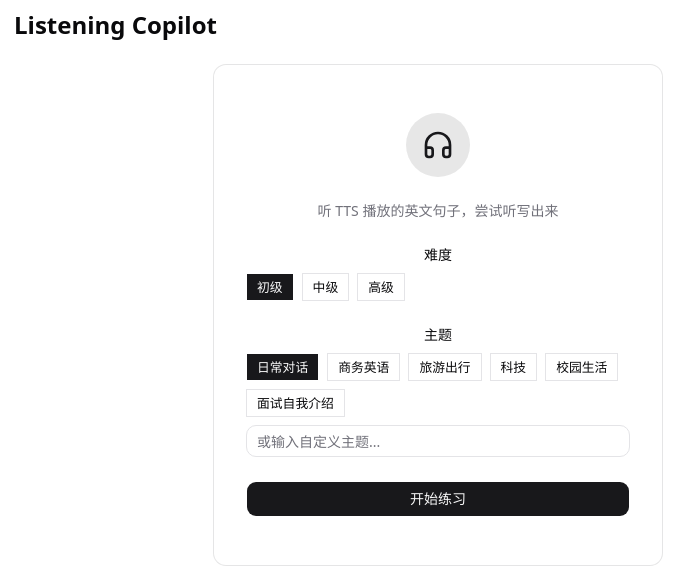
Test case: ListeningPage › shows error when LLM request fails
This screenshot has width=680, height=583.
Click the button "开始练习" at (438,499), box [246,481,630,517]
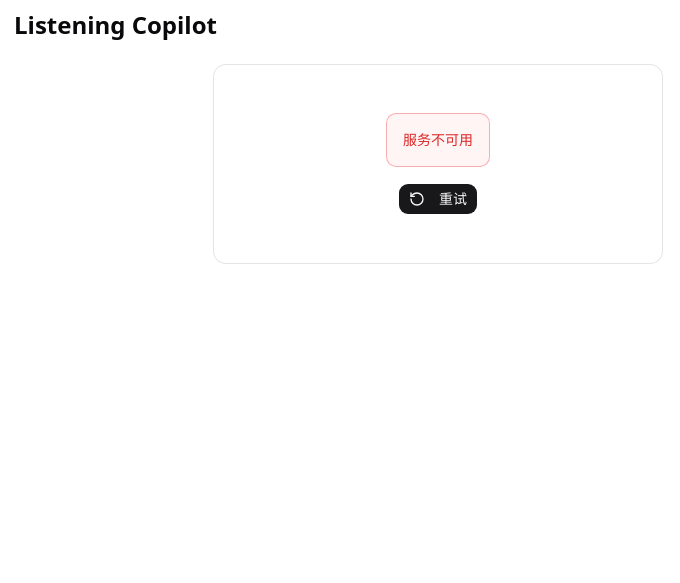
Expected: the text "服务不可用" is shown, [403,130,473,150]
